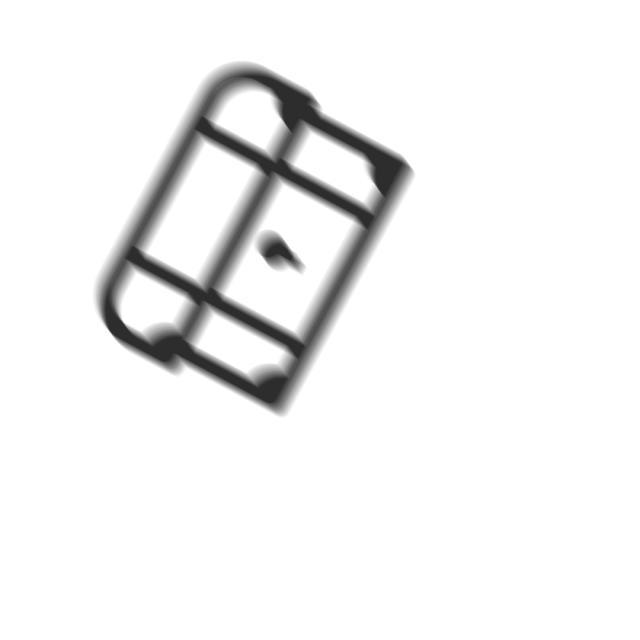treasure_box: (96, 64, 418, 421)
